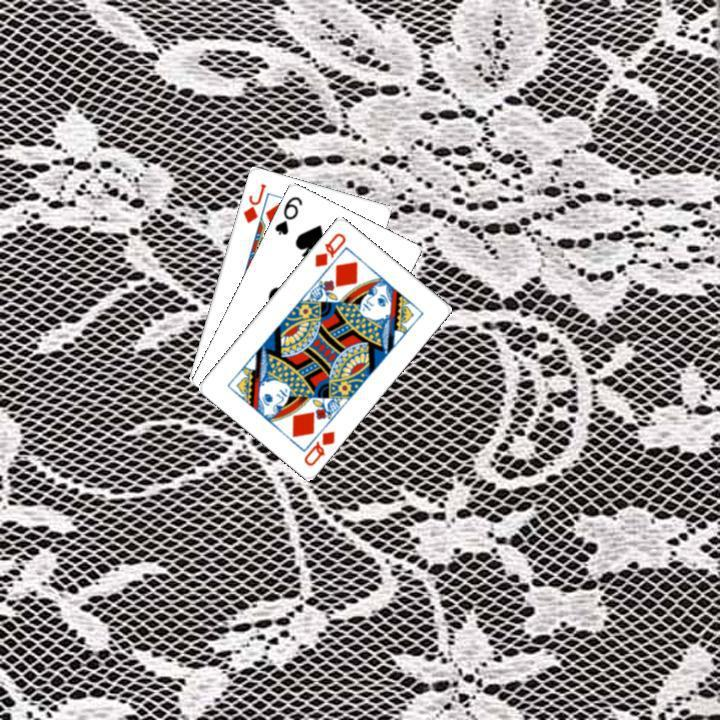6: (270, 191, 304, 237)
J: (238, 179, 268, 225)
Q: (299, 426, 337, 468), (310, 228, 348, 269)
